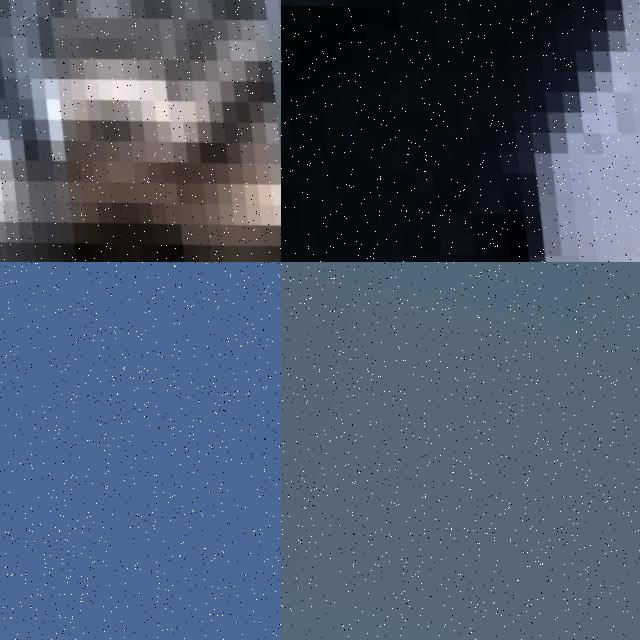drone: (281, 0, 640, 262), (0, 0, 281, 262)
